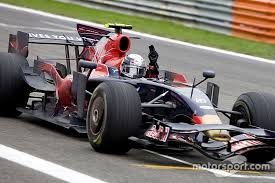f1_car: (1, 12, 275, 171)
